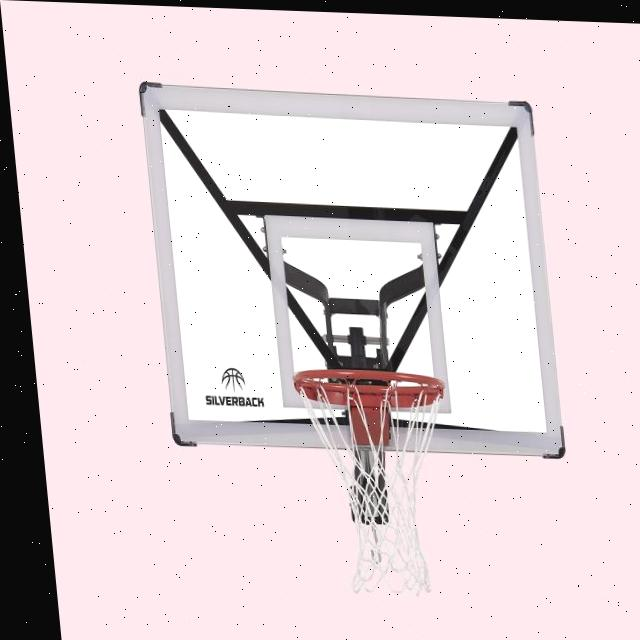hoop: (292, 368, 466, 598)
